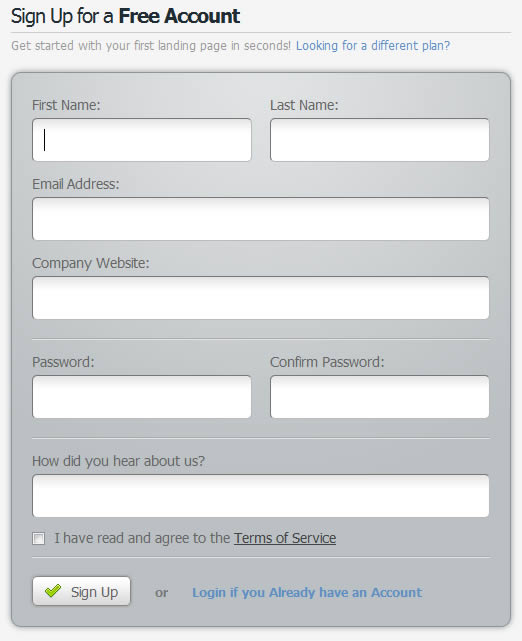_form_: (21, 251, 499, 611), (21, 84, 496, 427)
button: (32, 576, 132, 606)
checkbox: (31, 532, 50, 546)
checkbox_with_label: (29, 530, 338, 549)
field: (29, 195, 491, 242), (29, 274, 491, 320), (30, 472, 491, 518), (30, 116, 252, 163), (268, 116, 489, 163), (30, 374, 253, 420), (266, 374, 491, 418)
field_with_label: (28, 454, 494, 521), (26, 257, 494, 322), (27, 179, 493, 243), (27, 98, 254, 165), (266, 98, 492, 165), (29, 356, 257, 422), (264, 355, 492, 421)
